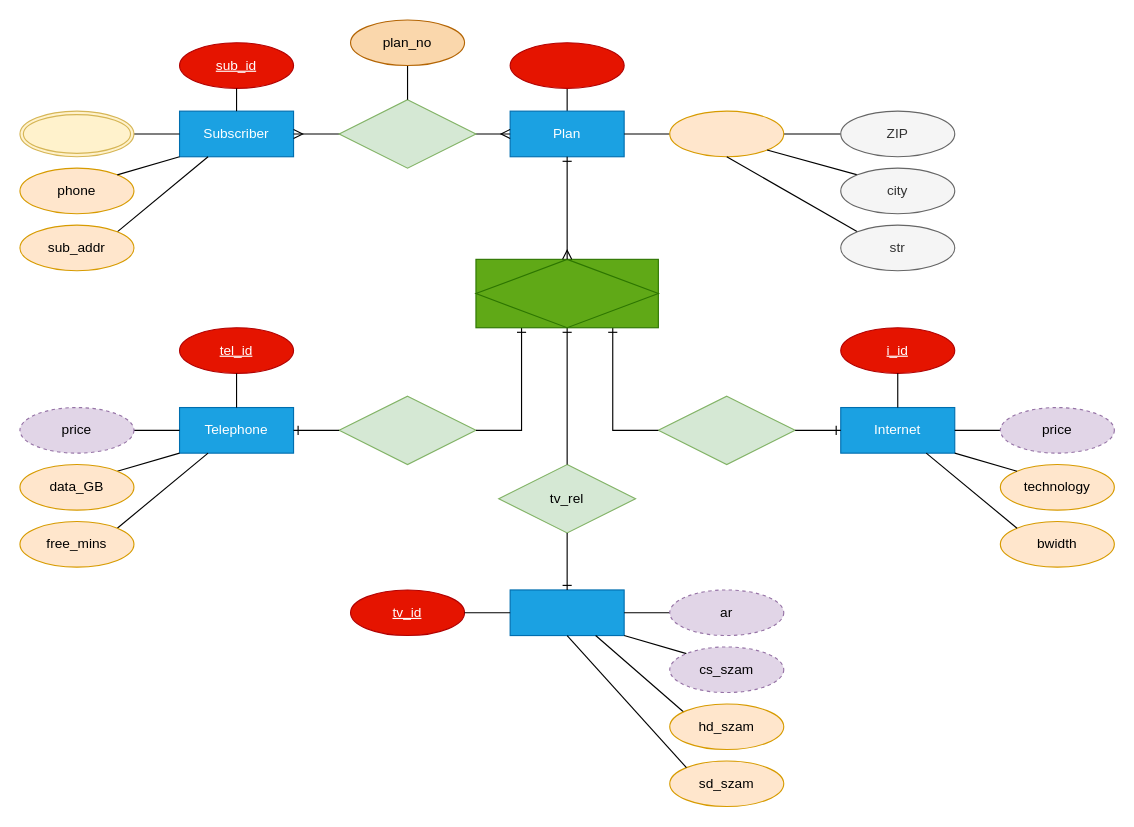
This 1134x827 diagram has some shape labels left out. The centre of each missing label's shape, as x and y in pixels:
address: point 726,133
bill: point 407,133
email: point 76,133
i_rel: point 726,430
p_id: point 566,65
Service: point 566,293
tel_rel: point 407,430
TV: point 566,612
